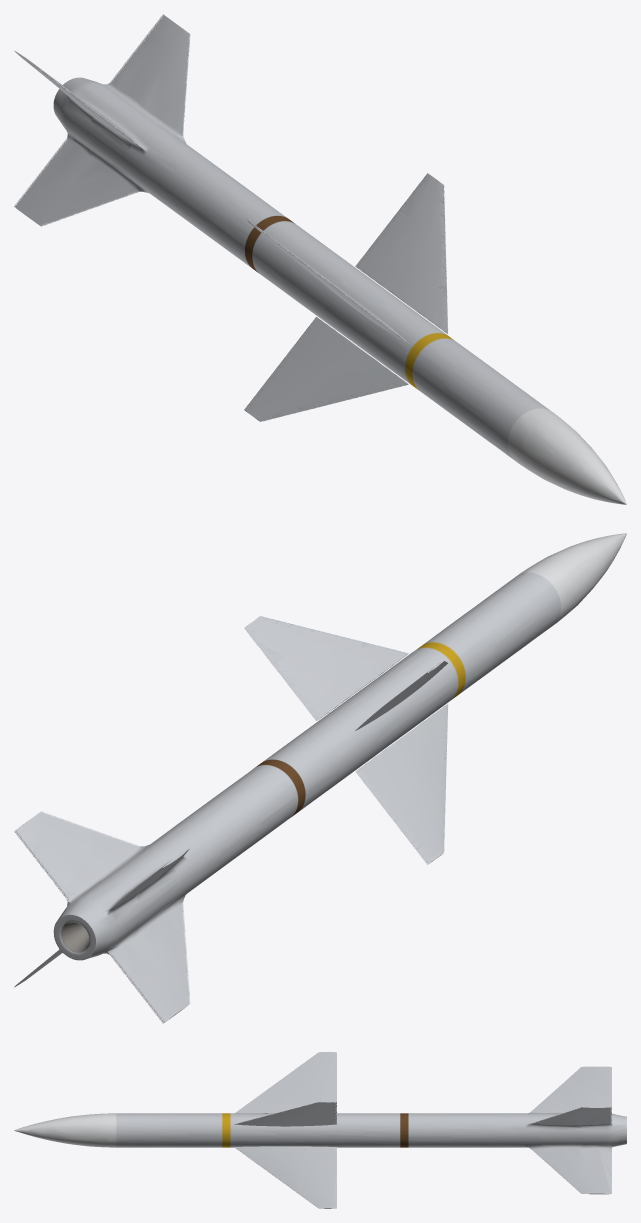
The model's file is aim7m.glb.
3 renders of one model, top to bottom at view 1: azimuth 30°, elevation 25°; view 2: azimuth 150°, elevation 25°; view 3: azimuth 270°, elevation 25°, orthographic. The views are drawn at different scales.
Parts seen in each view (by area): view 1: airframe, fsim:fin:1039161249:1|elevator+aileron:1+rudder:1@-20,20, fsim:fin:78490819:1|elevator+aileron:-1+rudder:1@-20,20, fsim:fin:2245752368:1|elevator+aileron:-1+rudder:-1@-20,20; view 2: airframe, fsim:fin:1039161249:1|elevator+aileron:1+rudder:1@-20,20, fsim:fin:78490819:1|elevator+aileron:-1+rudder:1@-20,20, fsim:fin:2245752368:1|elevator+aileron:-1+rudder:-1@-20,20; view 3: airframe, fsim:fin:432374493:1|elevator+aileron:1+rudder:-1@-20,20, fsim:fin:2245752368:1|elevator+aileron:-1+rudder:-1@-20,20, fsim:fin:1039161249:1|elevator+aileron:1+rudder:1@-20,20.
Part boxes in pixels (bbox=[...]): airframe: bbox=[14, 14, 626, 504]; fsim:fin:1039161249:1|elevator+aileron:1+rudder:1@-20,20: bbox=[355, 173, 447, 333]; fsim:fin:78490819:1|elevator+aileron:-1+rudder:1@-20,20: bbox=[244, 317, 408, 421]; fsim:fin:2245752368:1|elevator+aileron:-1+rudder:-1@-20,20: bbox=[244, 217, 408, 343]; airframe: bbox=[14, 533, 626, 1023]; fsim:fin:1039161249:1|elevator+aileron:1+rudder:1@-20,20: bbox=[244, 616, 408, 721]; fsim:fin:78490819:1|elevator+aileron:-1+rudder:1@-20,20: bbox=[355, 704, 448, 864]; fsim:fin:2245752368:1|elevator+aileron:-1+rudder:-1@-20,20: bbox=[355, 661, 447, 730]; airframe: bbox=[14, 1066, 626, 1194]; fsim:fin:432374493:1|elevator+aileron:1+rudder:-1@-20,20: bbox=[234, 1146, 336, 1208]; fsim:fin:2245752368:1|elevator+aileron:-1+rudder:-1@-20,20: bbox=[235, 1052, 336, 1113]; fsim:fin:1039161249:1|elevator+aileron:1+rudder:1@-20,20: bbox=[234, 1101, 336, 1126].
Size of the model in its own units: 0.7023 by 0.7029 by 3.64.
3 materials, 1 textured.
